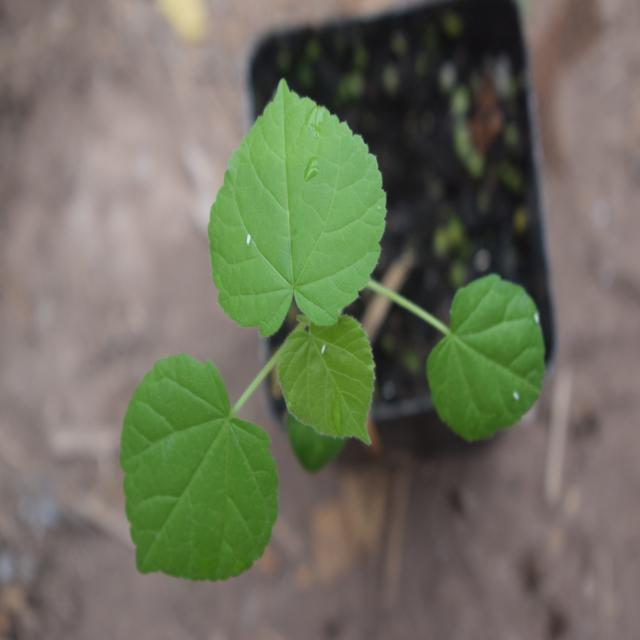abutilon theophrasti: (98, 72, 531, 583)
